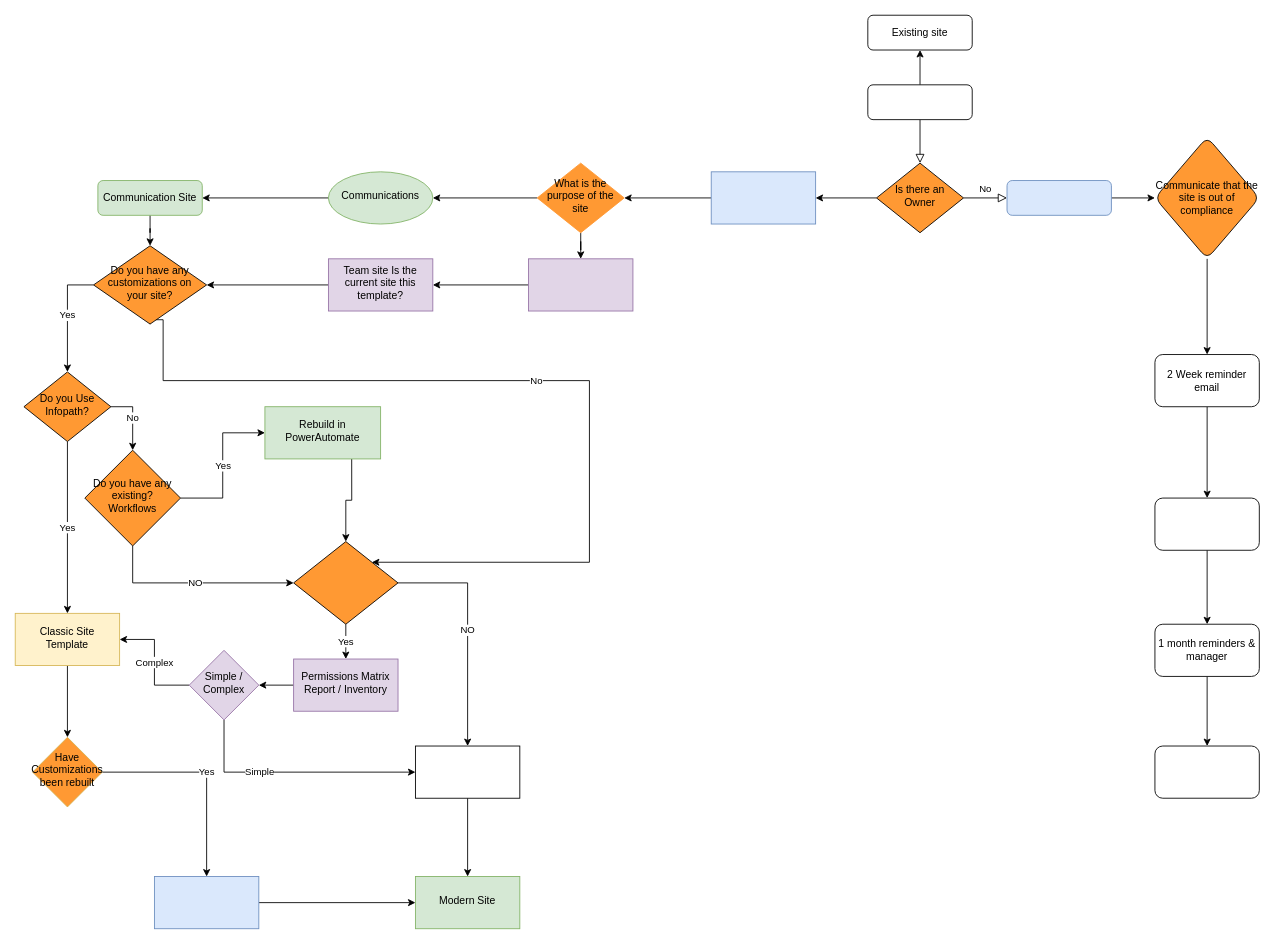
This 1275x944 diagram has some shape labels left out. The box of each missing label's shape, as (x1, y1, x2, y2) in pixels:
Capture Justification and Ownership in Site Owners List.: (710, 171, 816, 224)
Collaboration: (528, 258, 633, 311)
Data only Migration: (415, 745, 520, 798)
Deprecate site: (1154, 745, 1259, 798)
Do you require custom security for individuals or roles or multiple folders: (293, 541, 398, 624)
Don't Migrate: (1006, 180, 1111, 215)
Lock the site as Read only: (1154, 497, 1259, 550)
Owner for the Site: (867, 84, 972, 120)
Run Convert-To Modern PowerShell: (154, 876, 259, 929)
